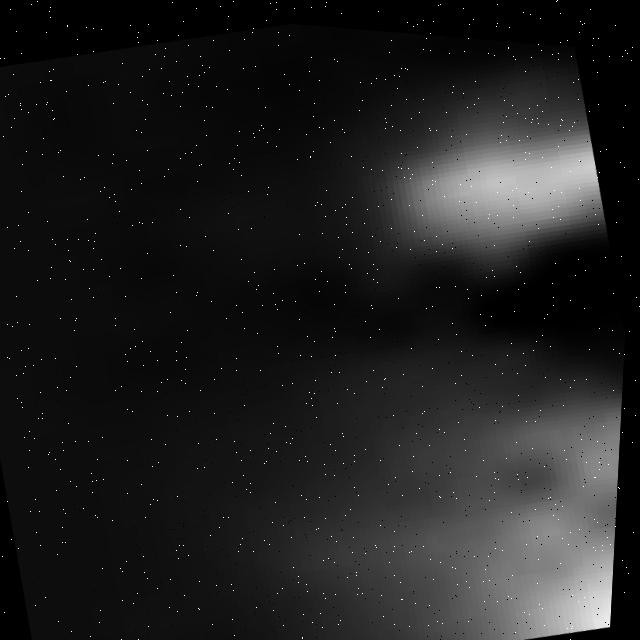person: (47, 258, 631, 640), (193, 35, 630, 368), (163, 425, 624, 640)
